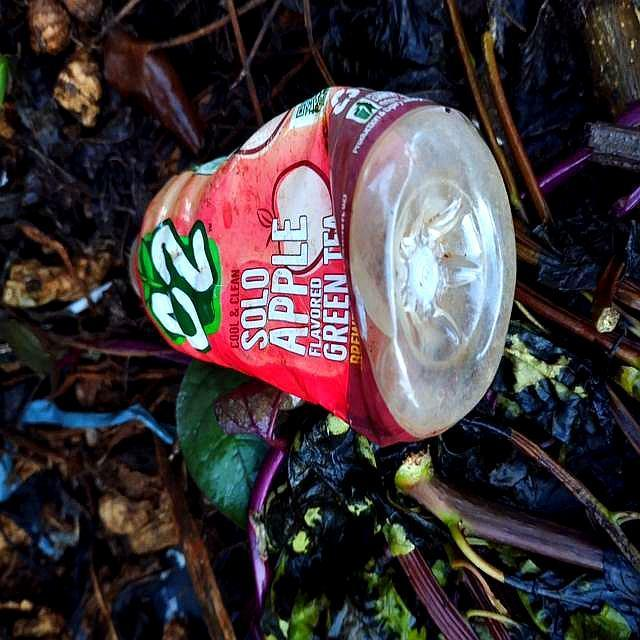Non-biodegradable: (130, 84, 520, 448)
